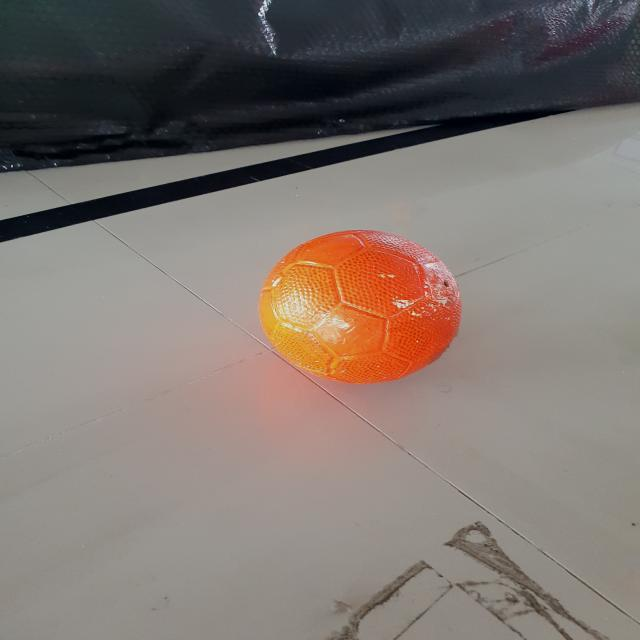bola: (253, 224, 472, 393)
